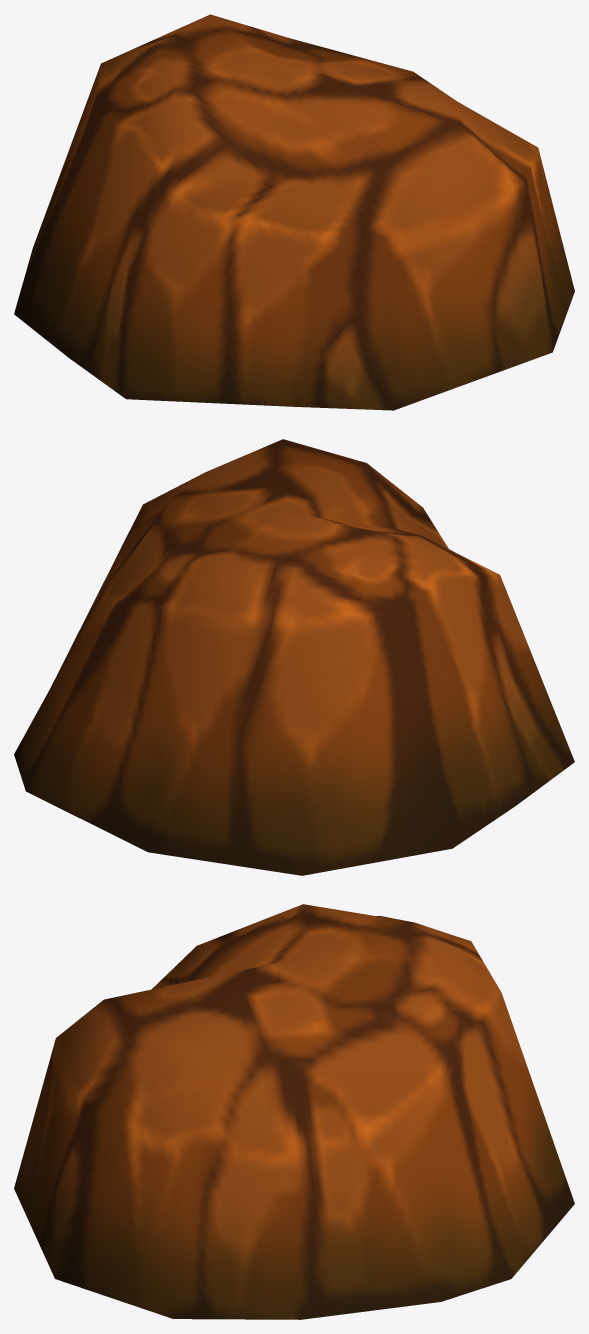
Rendered from Rock_04.FBX.
The picture shows the model from 3 angles, top to bottom: view 1: azimuth 30°, elevation 25°; view 2: azimuth 150°, elevation 25°; view 3: azimuth 270°, elevation 25°; orthographic projection. The views are drawn at different scales.
Visible parts, largest first — view 1: Rock_04; view 2: Rock_04; view 3: Rock_04.
Boxes of the visible parts, x1,y1,x2,y2 form: Rock_04: [14, 14, 574, 410]; Rock_04: [14, 439, 574, 875]; Rock_04: [14, 904, 574, 1319].
Bounding box in the file's own units: 98.76 × 49.37 × 103.
